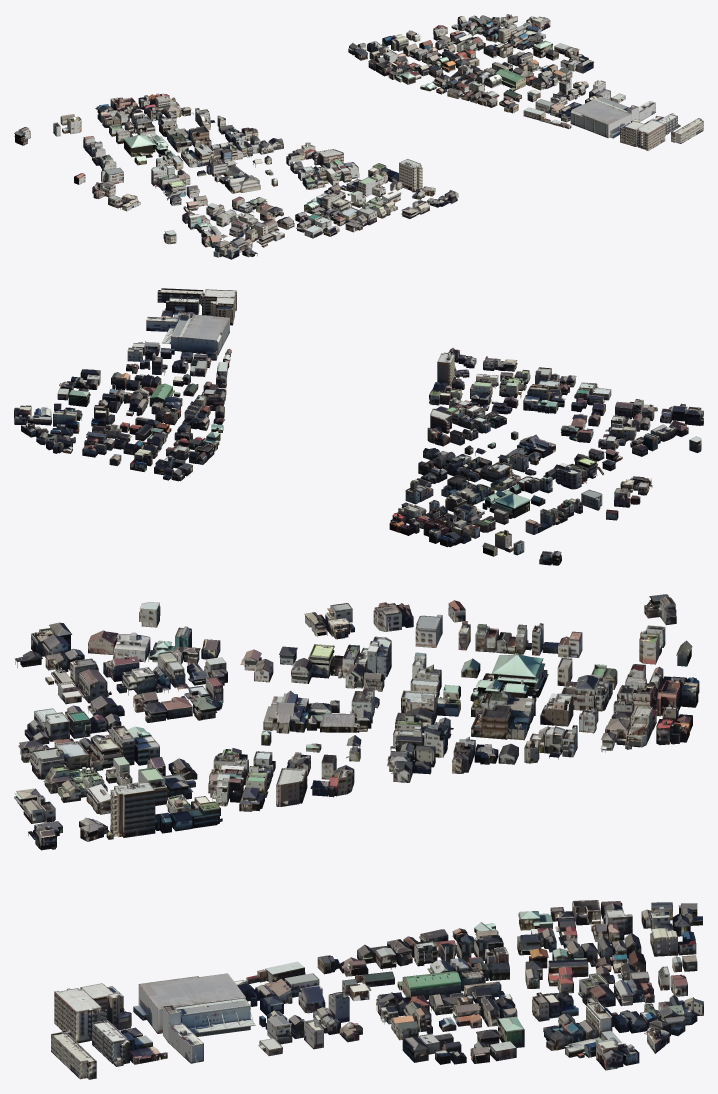
The model's file is station-3-1-packed.glb.
The picture shows the model from 3 angles, top to bottom: view 1: azimuth 30°, elevation 25°; view 2: azimuth 150°, elevation 25°; view 3: azimuth 270°, elevation 25°; orthographic projection. The views are drawn at different scales.
Size of the model in its own units: 563 by 27.24 by 349.
21 materials, 20 textured.
